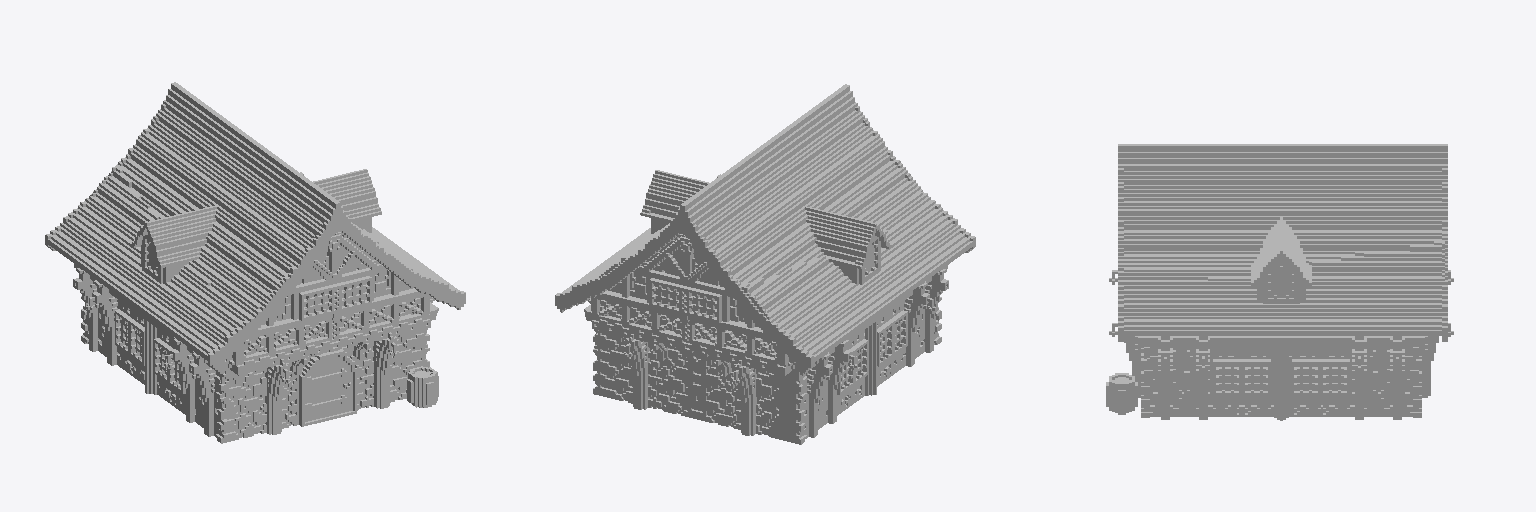
File: townhall.obj
3 views of the same model, side by side, from view 1: azimuth 30°, elevation 25°; view 2: azimuth 150°, elevation 25°; view 3: azimuth 270°, elevation 25° (orthographic).
Bounding box in the file's own units: 103 × 85 × 120.